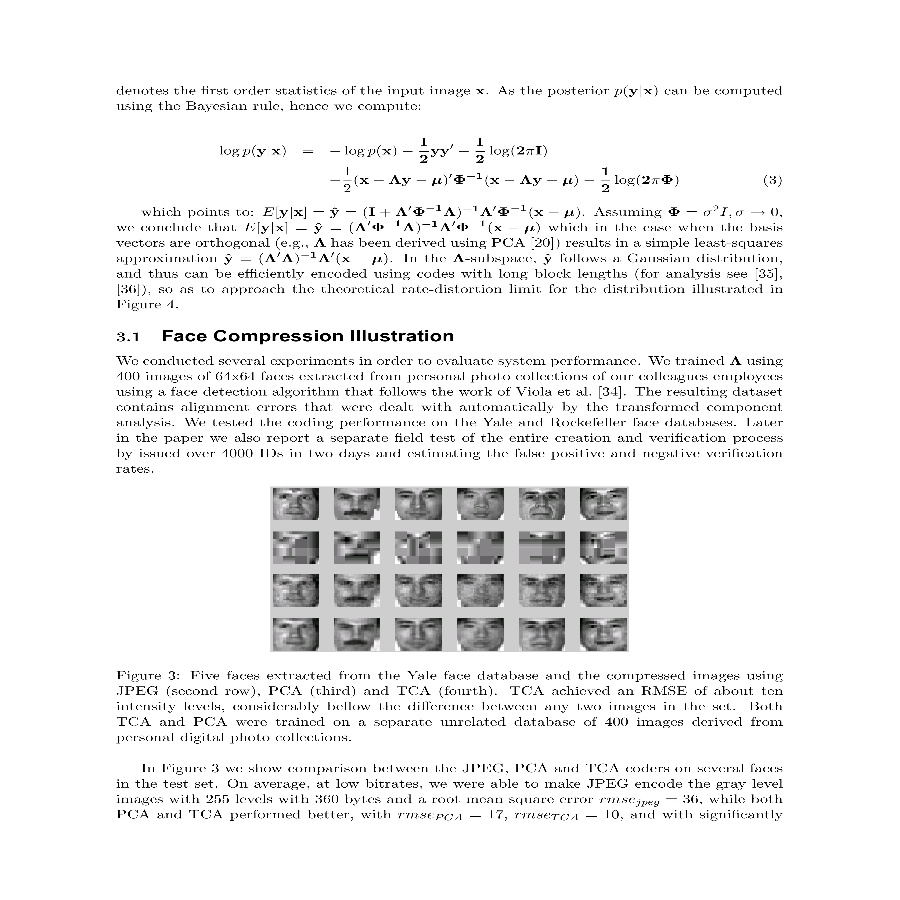eq: (219, 139, 685, 194)
